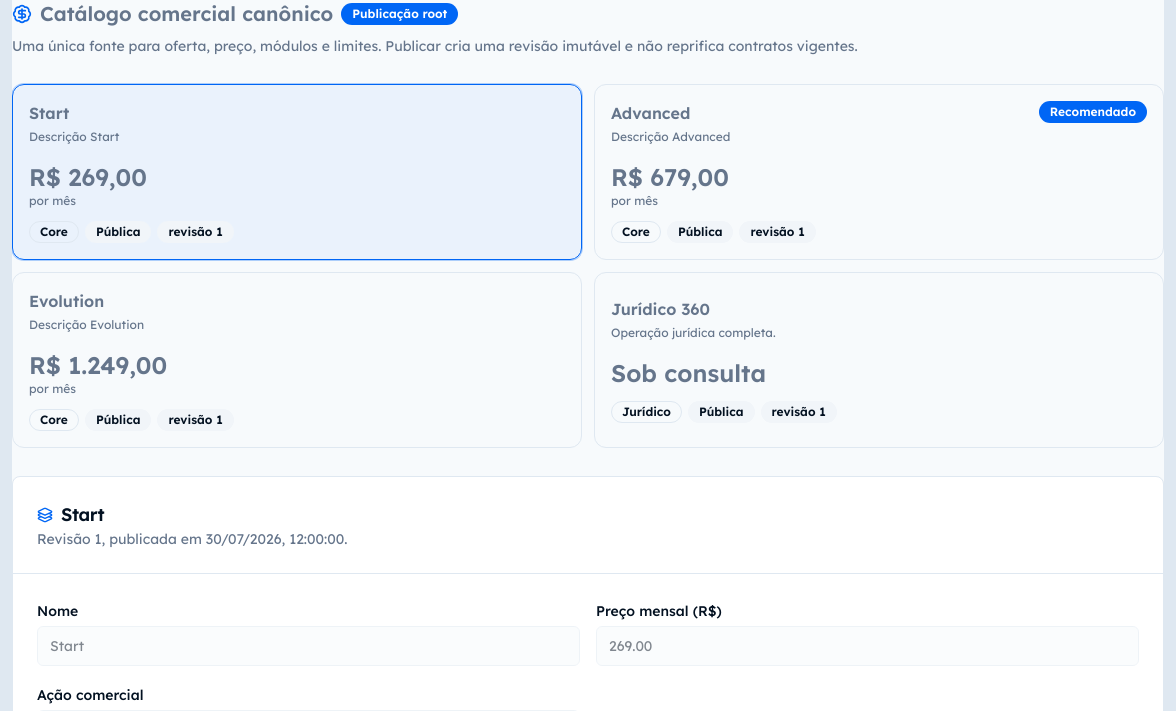
Test: PlatformCommercialCatalogPanel › keeps legal capabilities without runtime enforcement unavailable for sale
This screenshot has width=1176, height=711.
Click the button "Jurídico 360". click: click(660, 309)
box: [594,272,1164,448]
(page scrolled)
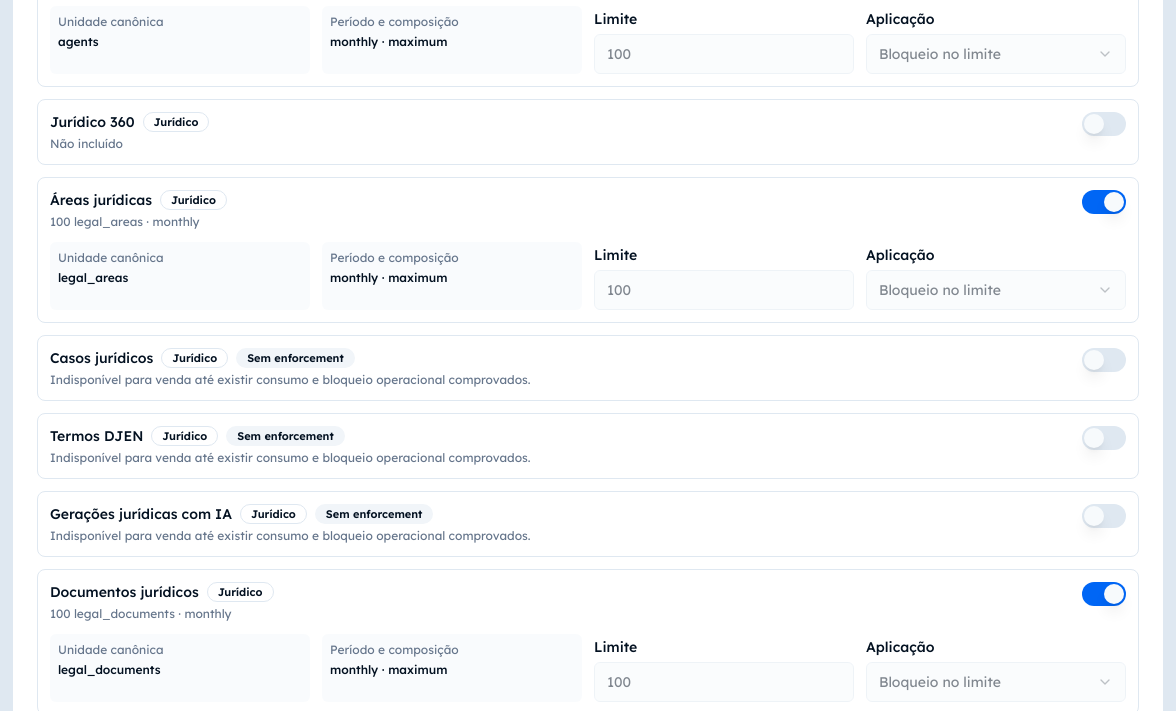
Check: the switch named "Incluir Casos jurídicos" is disabled, box [1082,348,1126,372]
Check: the text "Sem enforcement" is shown 9 times
Check: the text "Indisponível para venda até existir consumo e bloqueio operacional comprovados" is shown 9 times
